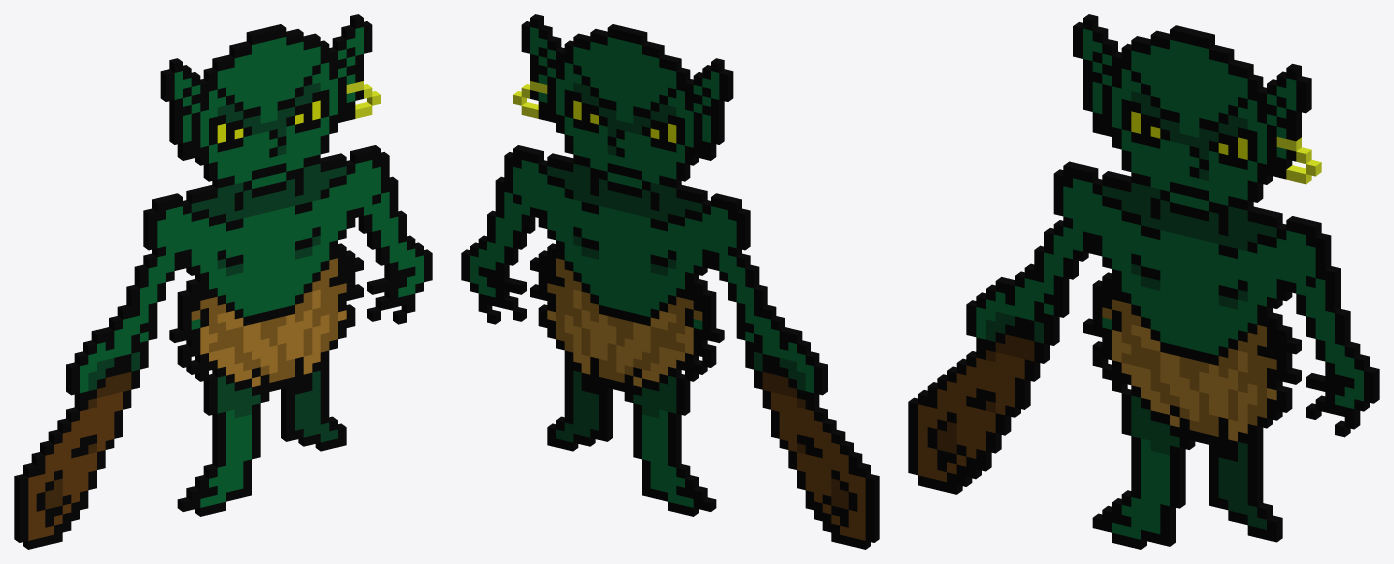
Rendered from GoblinBonk.fbx.
3 renders of one model, left to right at view 1: azimuth 30°, elevation 25°; view 2: azimuth 150°, elevation 25°; view 3: azimuth 330°, elevation 25°, orthographic. The views are drawn at different scales.
Parts seen in each view (by area): view 1: Curve.155; view 2: Curve.155; view 3: Curve.155.
Boxes of the visible parts, box(x1,y1,x2,y2) form: Curve.155: box(14, 14, 432, 549); Curve.155: box(461, 14, 879, 549); Curve.155: box(908, 14, 1379, 549).
Bounding box in the file's own units: 40.64 × 44.02 × 0.9.
